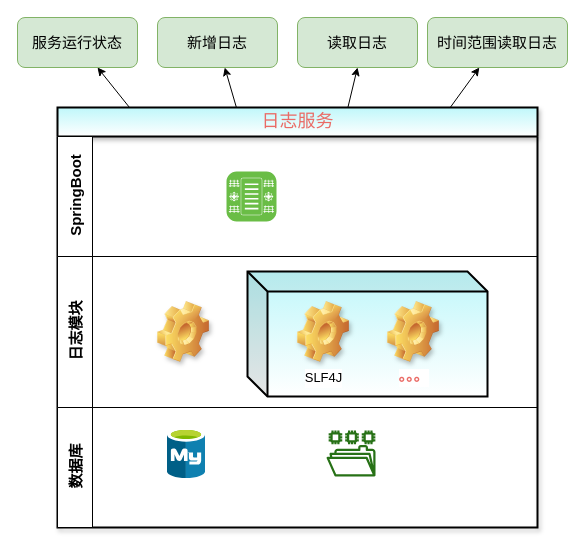
The diagram is 585 pixels wide and 553 high, and some of its shapes have lost their labels. The centre of each missing label's shape, as x and y in pixels:
"DB mapper" belongs at [184,333].
"日志文件" belongs at [350,453].
"日志表" belongs at [186,453].
"系统日志服务" belongs at [251,196].
